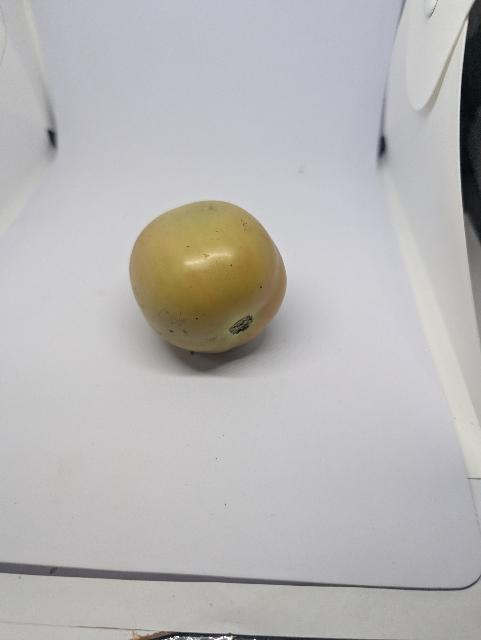breaker: (125, 194, 293, 365)
